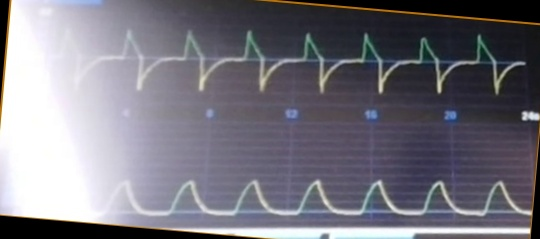Normal Flow: (45, 24, 524, 102)
Normal Volume: (84, 164, 530, 222)
